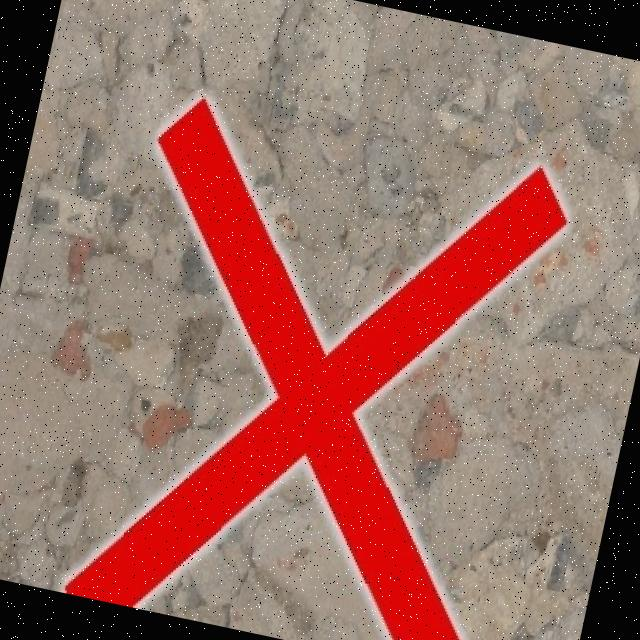x_marker: (61, 87, 577, 640)
